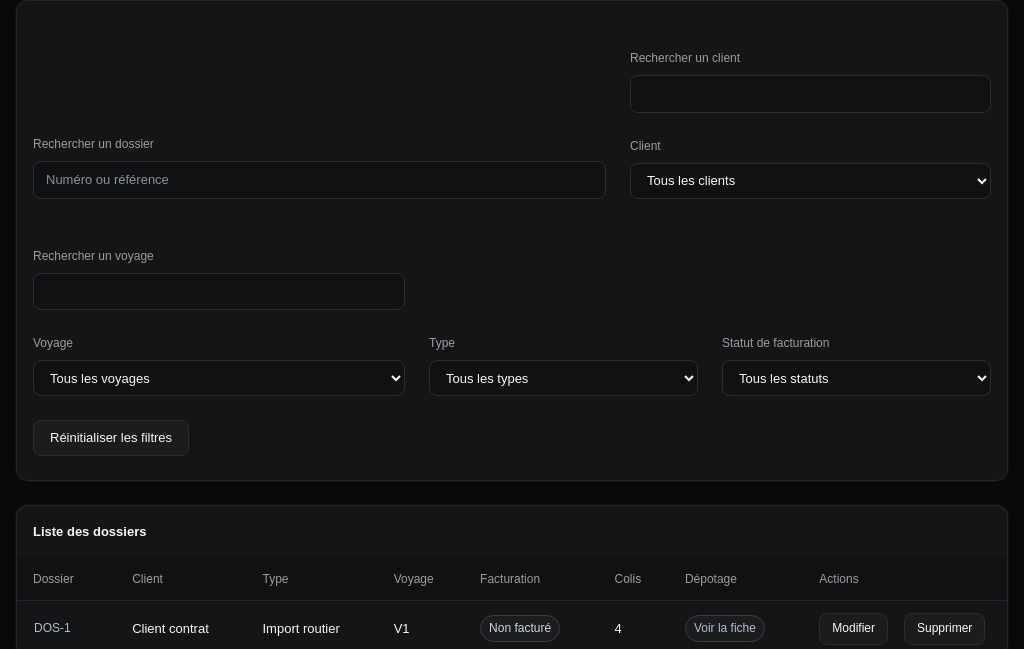
Test case: Dossiers API presentation › shows detail errors with retry and never opens a blank edit form
(page scrolled)
Click the button named "Modifier DOS-1" at (854, 629), box [819,613,888,645]
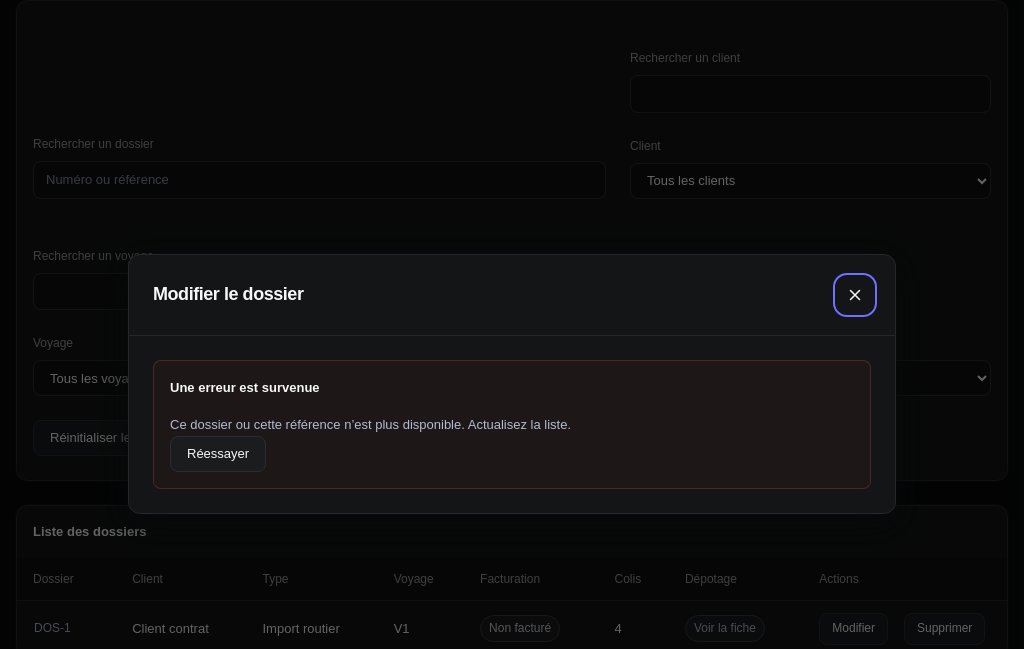
Expected: the field labelled "Numéro de dossier" is not shown
Expected: the text "Ce dossier ou cette référence n’est plus disponible. Actualisez la liste." is shown, [170,414,571,436]
Click the button "Réessayer" at (218, 454), box [170,436,266,472]
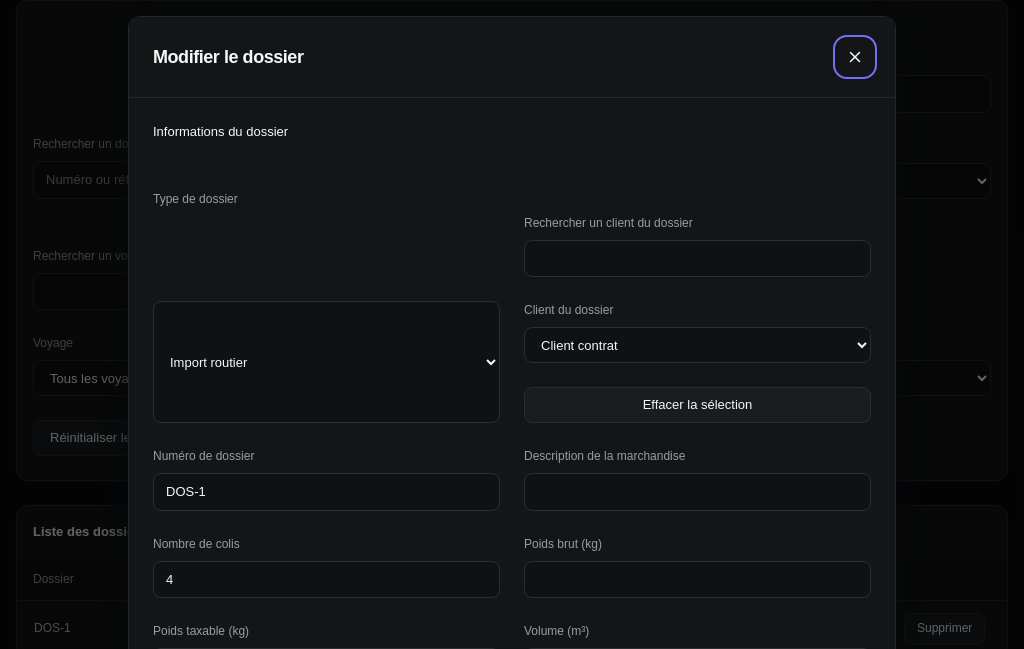
Expected: the field labelled "Numéro de dossier" is shown, [153,473,500,511]
